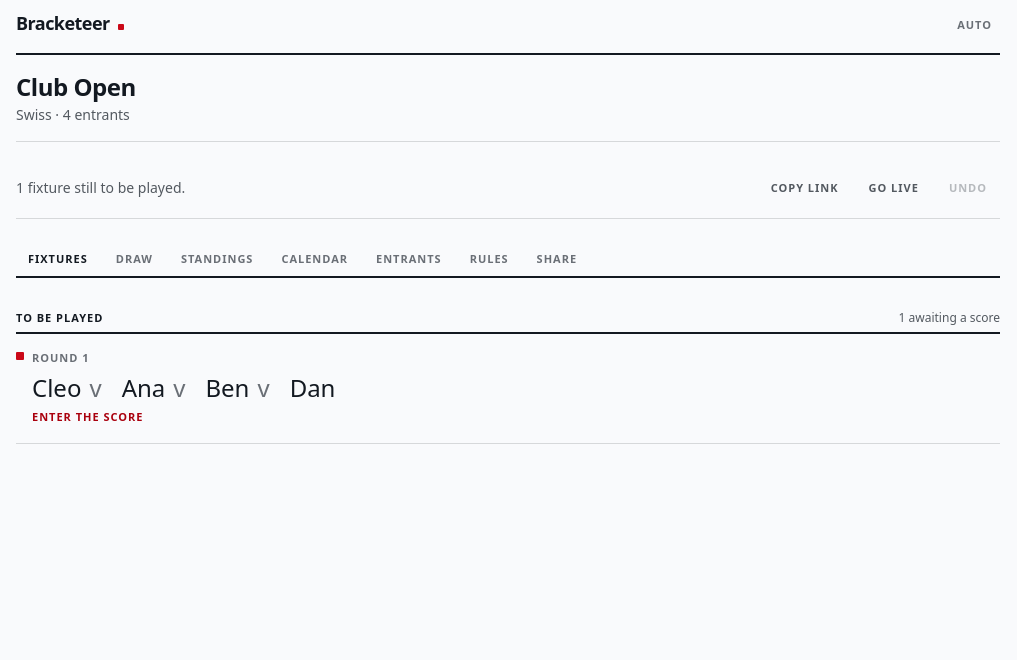
Test: recording a result, in every shape the rules can take › lets a mis-tapped finishing order be taken back
Click the button "Enter the score" at point(57, 387), box x1=16 y1=372 x2=1000 y2=426
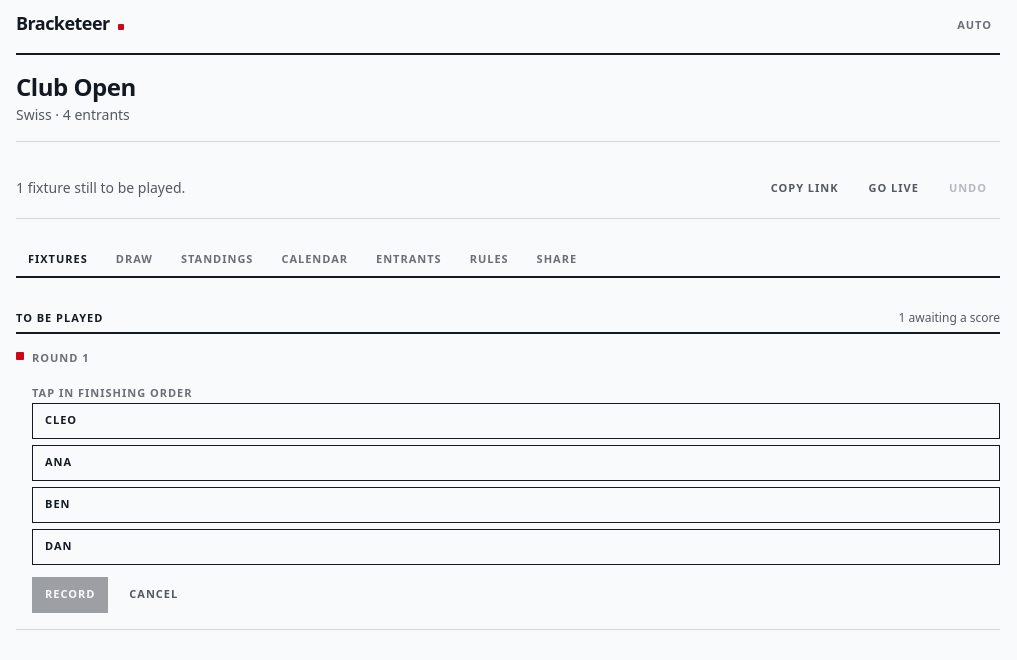
Click the button "Ana" at point(59, 462), box x1=32 y1=444 x2=1000 y2=480
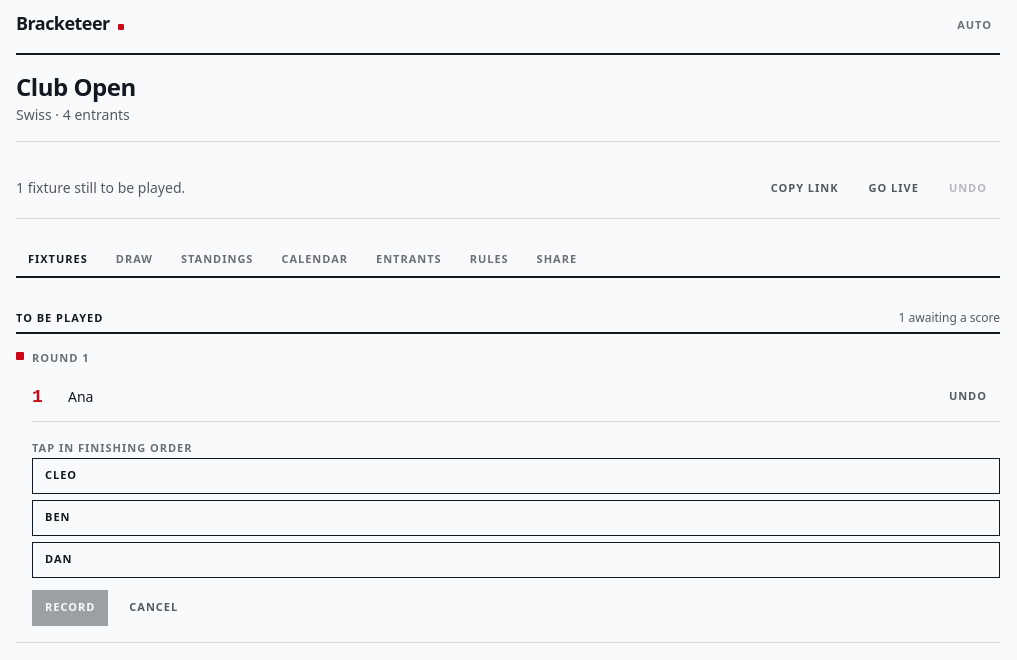
Click the button "Undo" in the row of "Ana" at point(968, 396), box x1=936 y1=378 x2=1000 y2=414
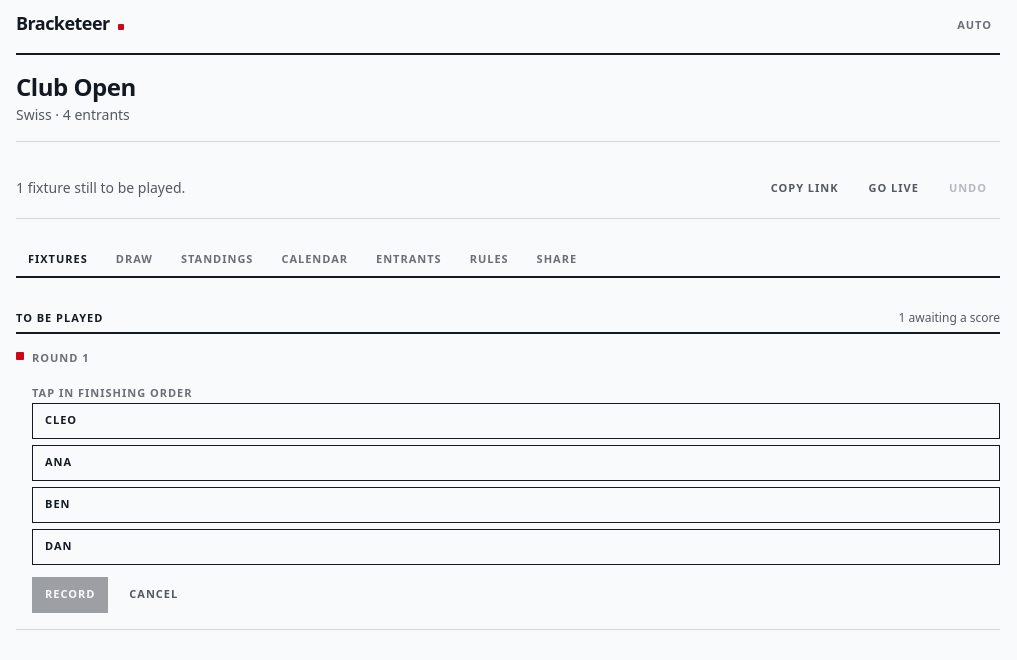
Now the button "Ana" is shown, box x1=32 y1=444 x2=1000 y2=480
